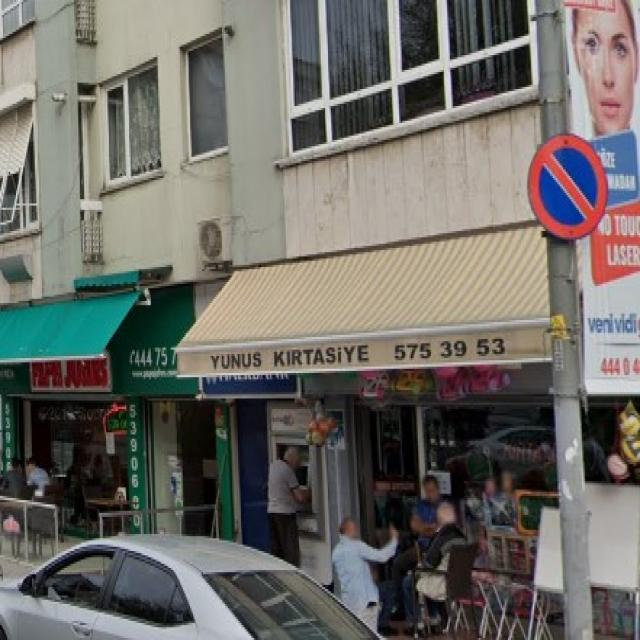parkyasak: (526, 134, 606, 242)
